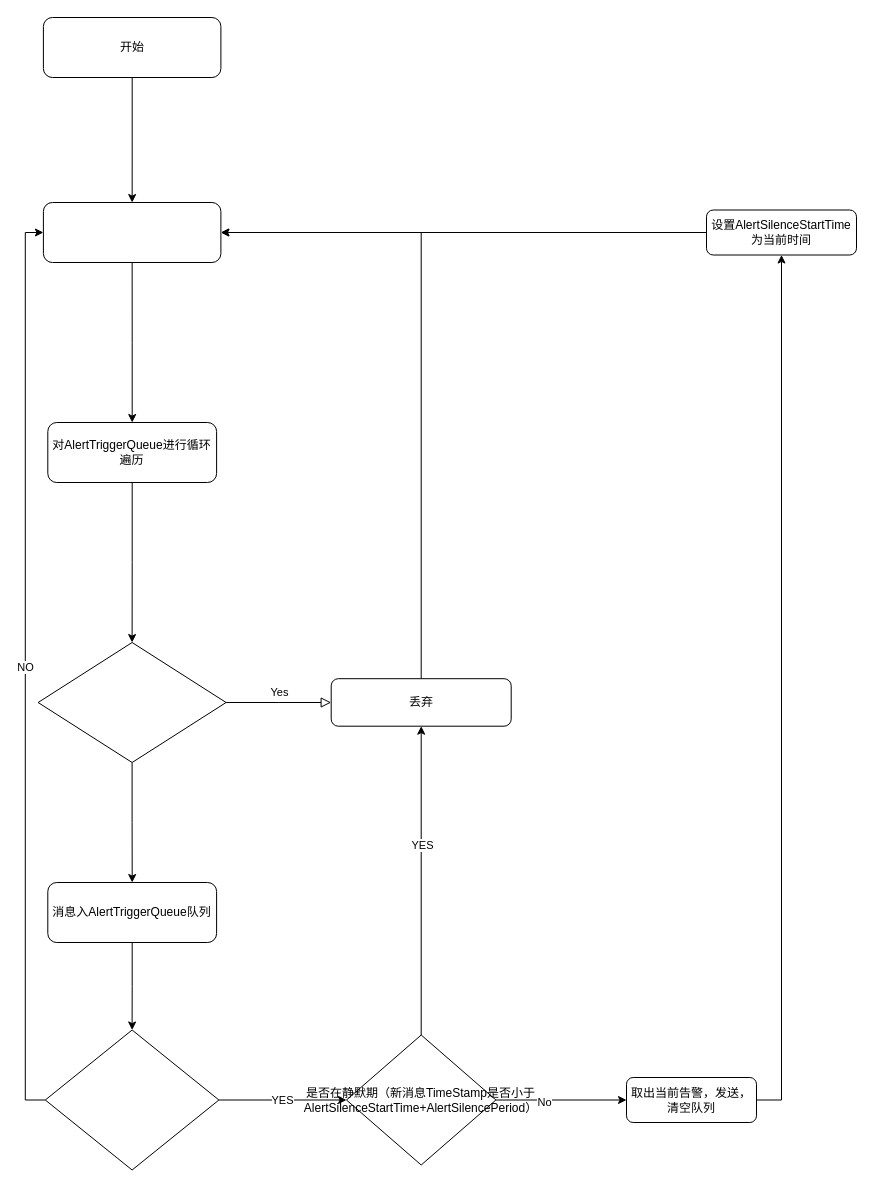
The diagram is 875 pixels wide and 1188 high, and some of its shapes have lost their labels. The centre of each missing label's shape, as x and y in pixels:
"Ai告警触发" belongs at pixel 131 232.
"TriggerQueue数据TimeStamp是否过期（少于新消息TimeStamp与 AlertPeriod时间 差值）" belongs at pixel 131 702.
"判断当前队列大小是否大于等于 AlertTriggerThreshold" belongs at pixel 131 1099.
